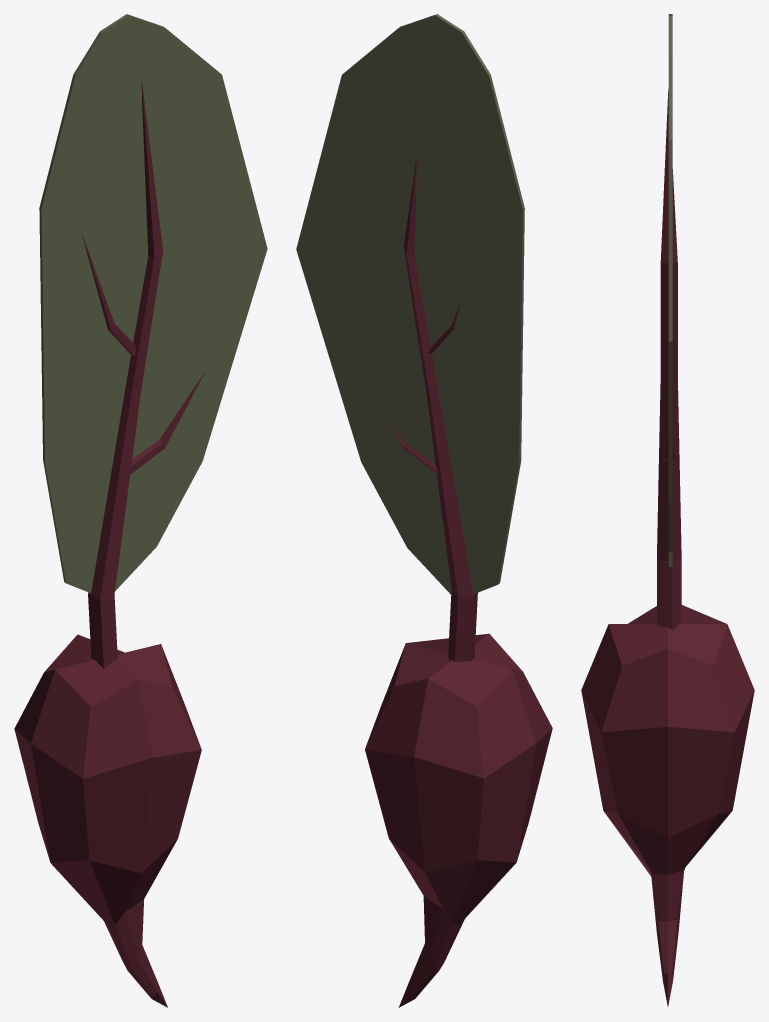
File: Beet_2.glb
3 views of the same model, side by side, from view 1: azimuth 30°, elevation 25°; view 2: azimuth 150°, elevation 25°; view 3: azimuth 270°, elevation 25° (orthographic). The views are drawn at different scales.
Parts seen in each view (by area): view 1: DarkGreen, DarkRed; view 2: DarkGreen, DarkRed; view 3: DarkRed, DarkGreen.
Part boxes in pixels (bbox=[...]): DarkGreen: bbox=[39, 14, 267, 592]; DarkRed: bbox=[14, 81, 204, 1007]; DarkGreen: bbox=[296, 14, 524, 594]; DarkRed: bbox=[365, 158, 552, 1007]; DarkRed: bbox=[581, 88, 754, 1006]; DarkGreen: bbox=[668, 14, 672, 566].
Size of the model in its own units: 0.2131 by 0.8597 by 0.1389.
